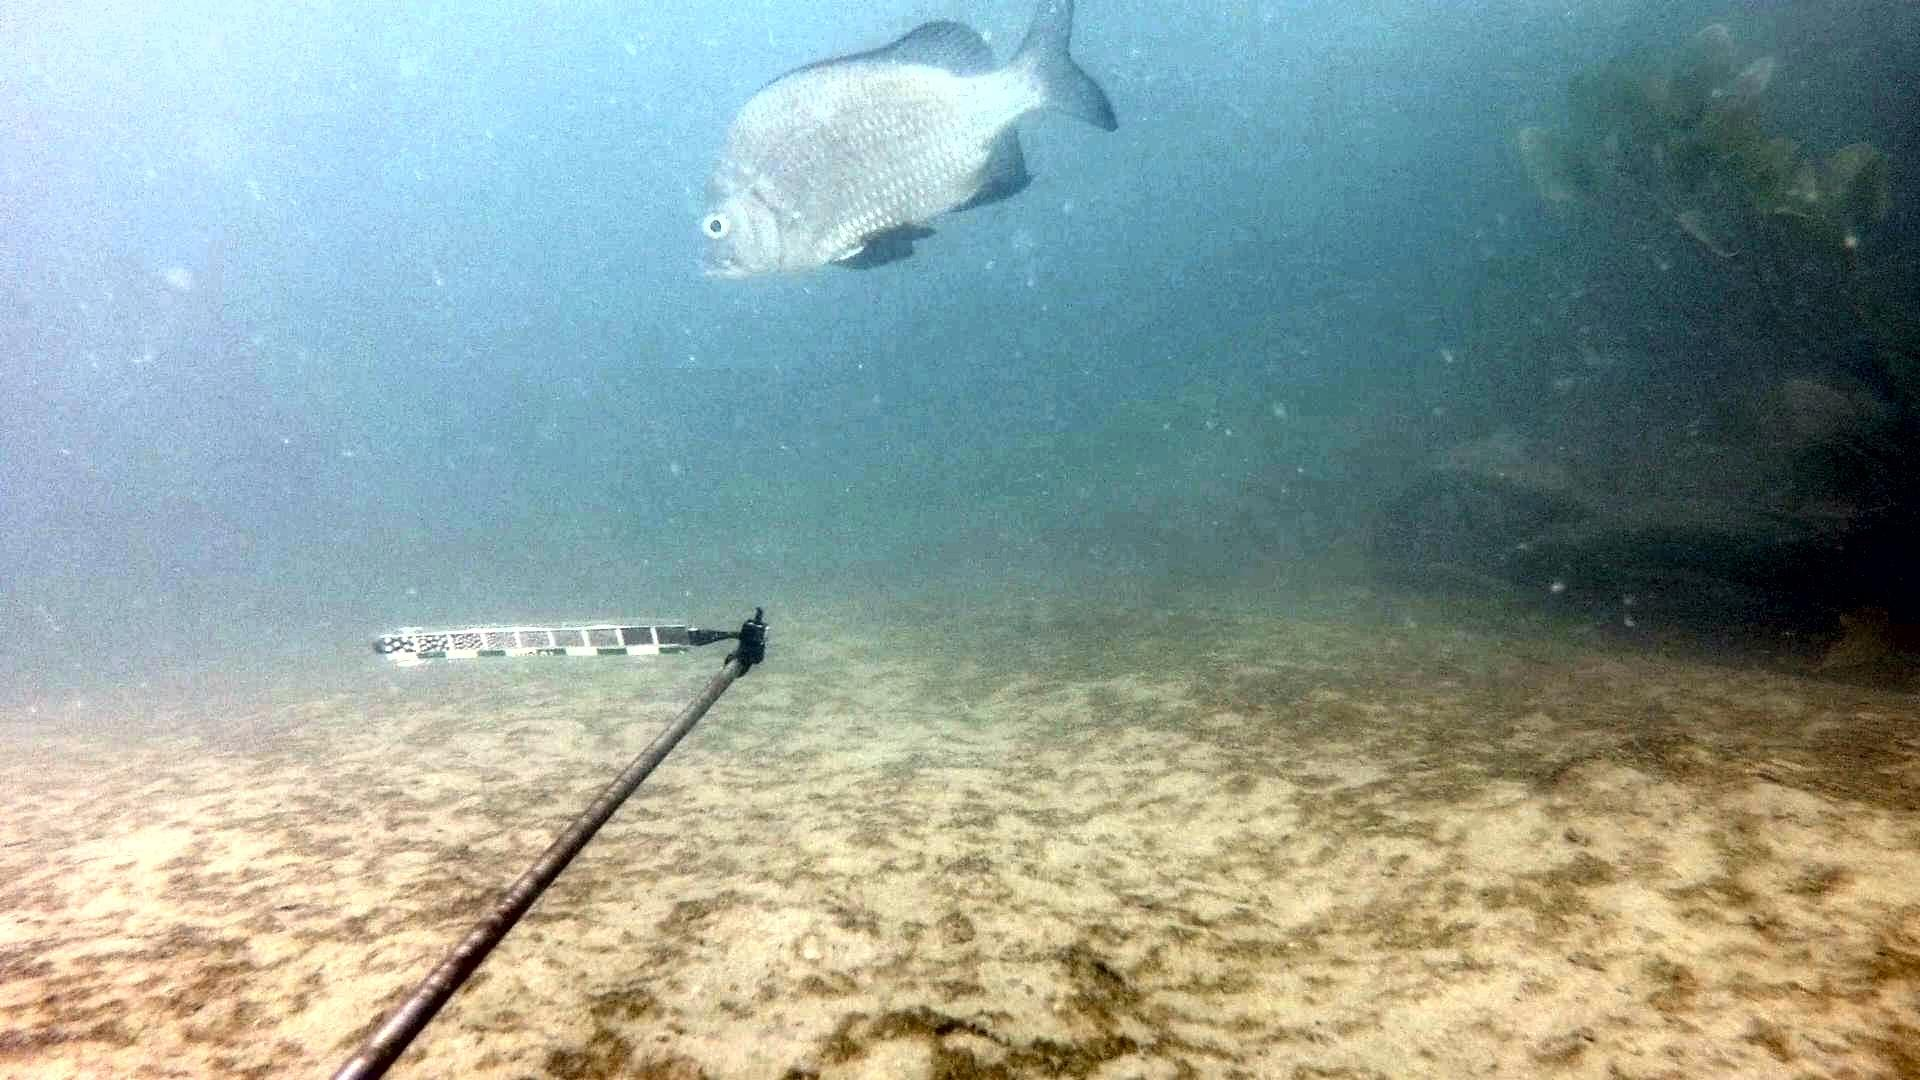acanthopagrus palmaris: (688, 0, 1129, 298)
